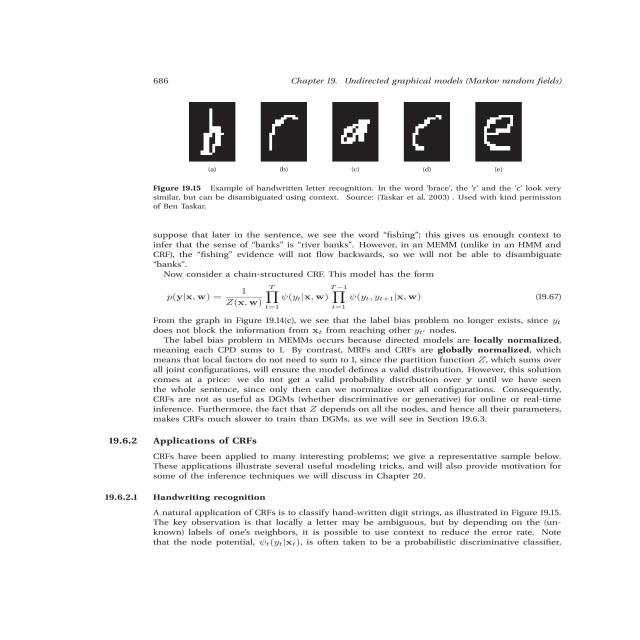diagram: (105, 87, 596, 222)
